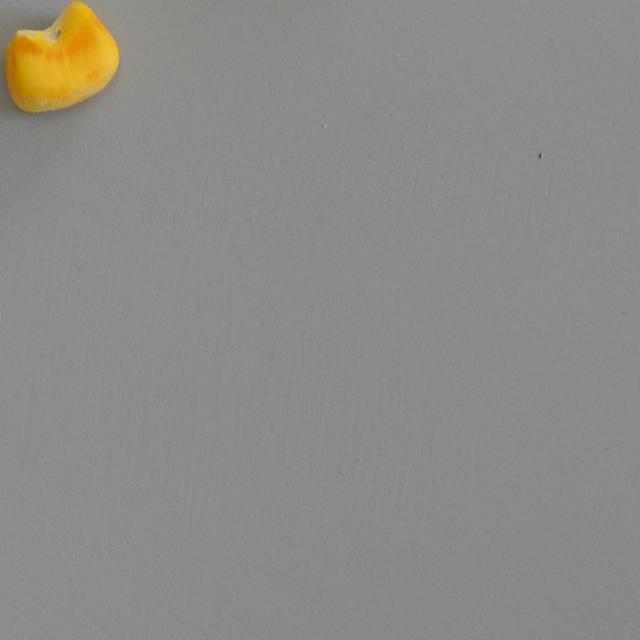dañado: (5, 0, 124, 109)
